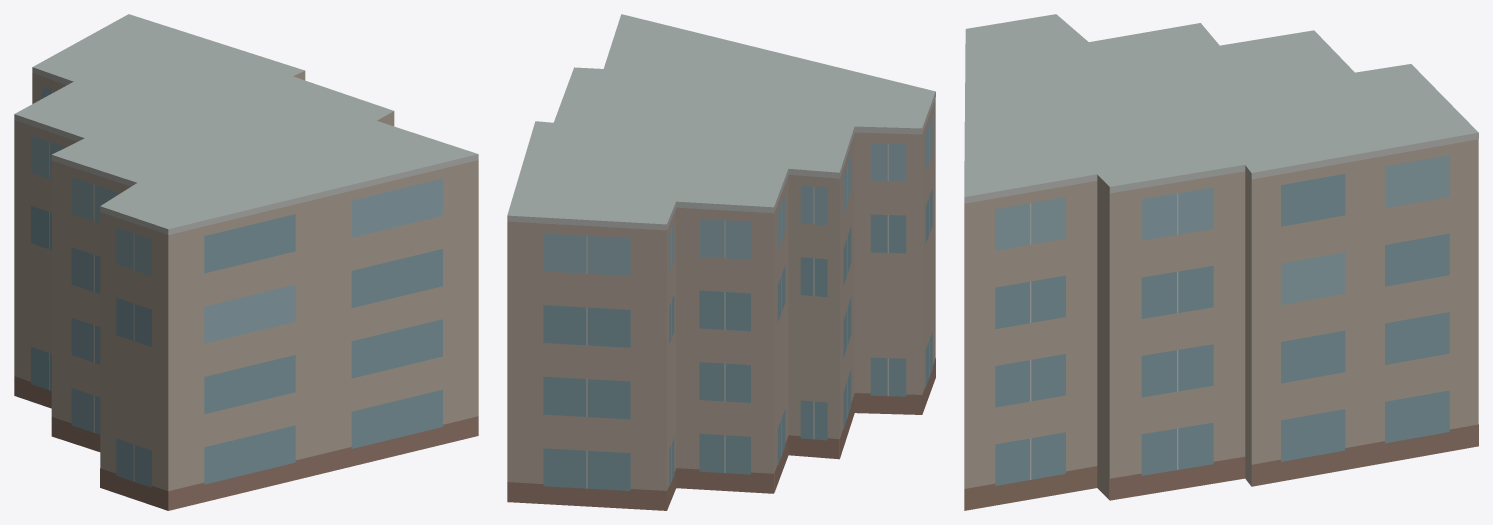
File: survey-upis-33003080.glb
3 views of the same model, side by side, from view 1: azimuth 30°, elevation 25°; view 2: azimuth 150°, elevation 25°; view 3: azimuth 270°, elevation 25° (orthographic). The views are drawn at different scales.
Visible parts, largest first — view 1: survey-upis-33003080.tmp; view 2: survey-upis-33003080.tmp; view 3: survey-upis-33003080.tmp.
Boxes of the visible parts, box(x1,y1,x2,y2) form: survey-upis-33003080.tmp: box(14, 14, 478, 510); survey-upis-33003080.tmp: box(507, 14, 935, 510); survey-upis-33003080.tmp: box(964, 14, 1478, 510).
Size of the model in its own units: 14.73 by 11.75 by 17.49.
